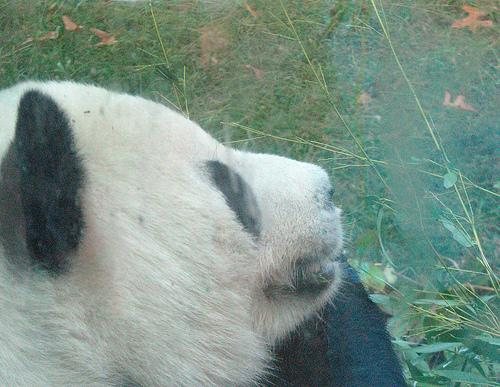panda: (0, 81, 405, 386)
